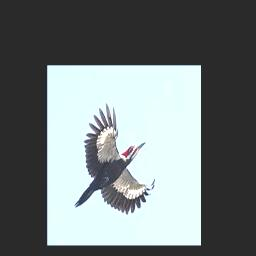Woodpecker: (74, 102, 155, 214)
